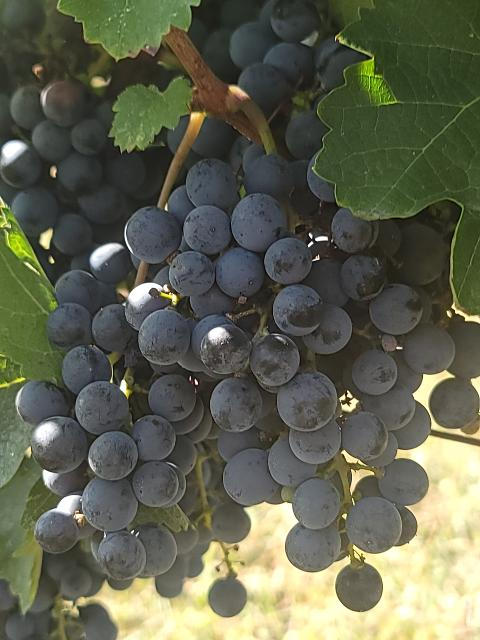grapes: (182, 159, 430, 610), (15, 206, 250, 590)
